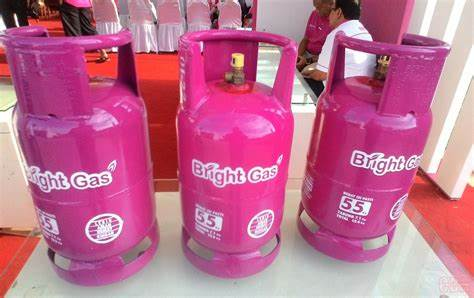bright_gas: (1, 27, 161, 287), (297, 30, 453, 262), (176, 30, 298, 277)
